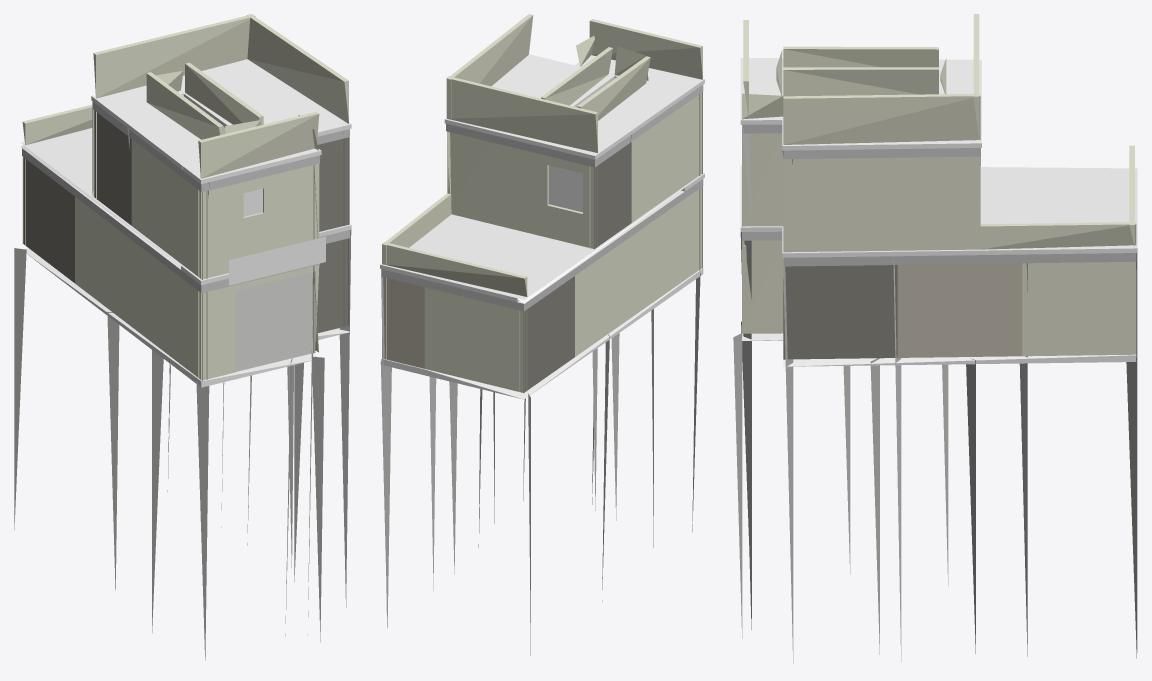
3 renders of one model, left to right at view 1: azimuth 30°, elevation 25°; view 2: azimuth 150°, elevation 25°; view 3: azimuth 270°, elevation 25°, orthographic. The views are drawn at different scales.
Visible parts, largest first — view 1: F_20; view 2: F_20; view 3: F_20.
Part boxes in pixels (x1,y1,x2,y2): F_20: [14, 14, 351, 660]; F_20: [380, 14, 704, 655]; F_20: [733, 14, 1137, 663].
Bounding box in the file's own units: 5.04 × 15.13 × 9.74.
